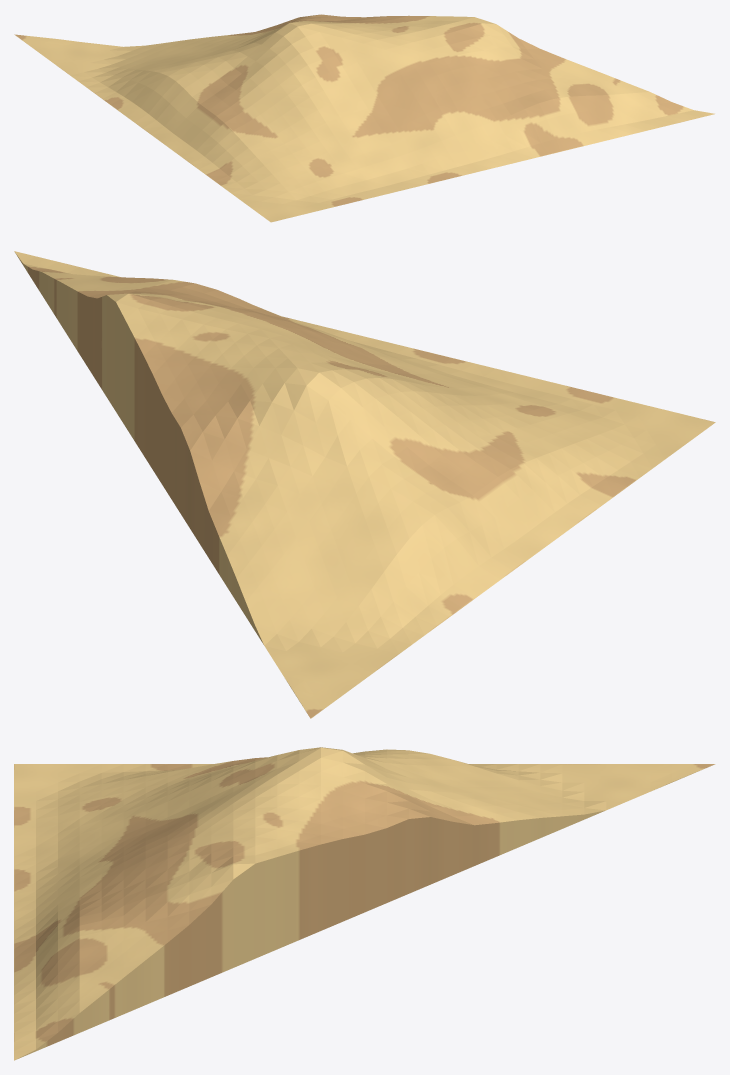
The model's file is Desert_Mountains_02_NW.obj.
The picture shows the model from 3 angles, top to bottom: view 1: azimuth 30°, elevation 25°; view 2: azimuth 150°, elevation 25°; view 3: azimuth 270°, elevation 25°; orthographic projection. The views are drawn at different scales.
Size of the model in its own units: 10 by 1.71 by 10.
Materials: 1 (1 with a texture image).
